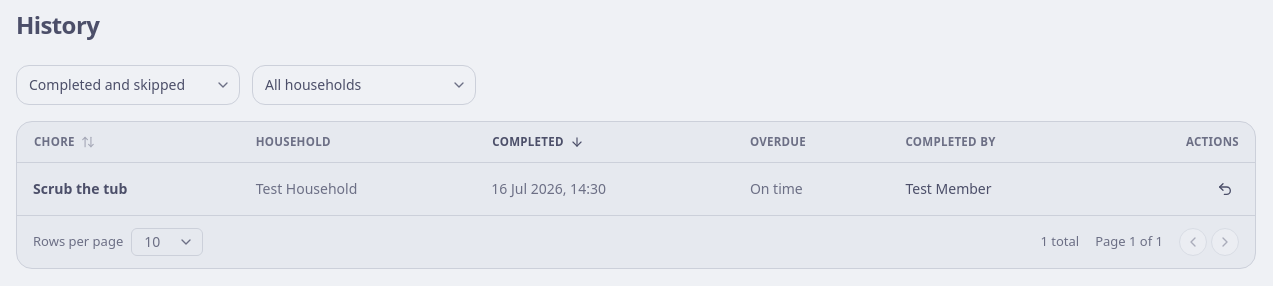
Test: History › offers every household the filter payload lists, helper households included
The width and height of the screenshot is (1273, 286).
expect the text "Scrub the tub" is shown: met, box top-left (33, 178), bottom-right (127, 198)
Click the dropdown labelled "household".
click(364, 85)  # box top-left (252, 65), bottom-right (476, 105)
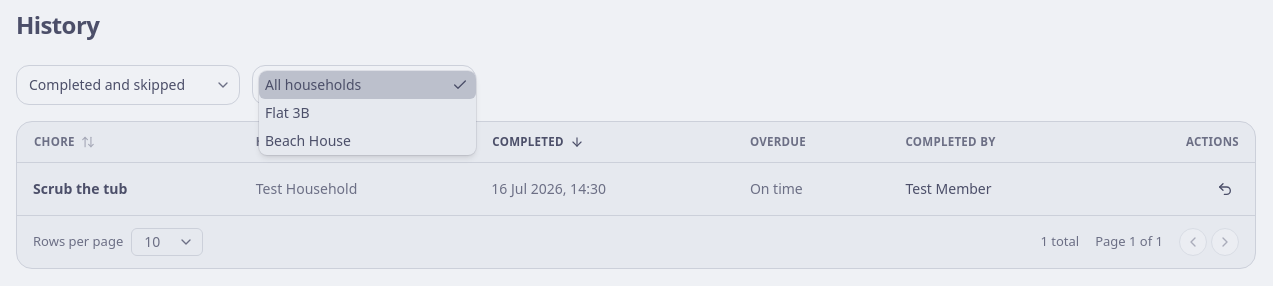
expect the option "Beach House" is shown: met, box top-left (265, 131), bottom-right (351, 150)
